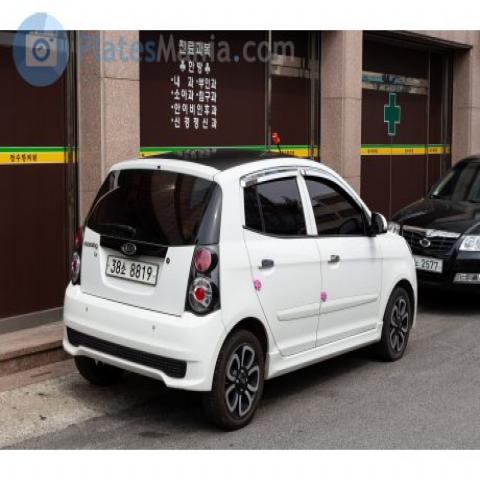LP: (98, 245, 164, 294)
